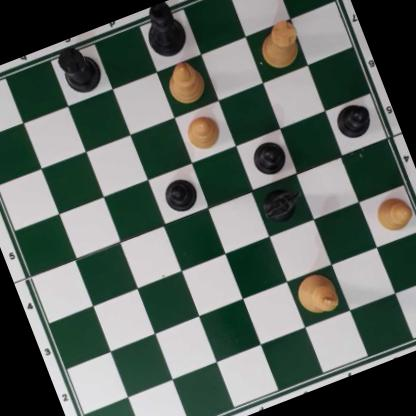black-king: (136, 0, 193, 65)
black-knight: (257, 179, 308, 227)
black-pawn: (330, 99, 375, 143), (158, 173, 202, 216), (248, 135, 289, 179)
black-rook: (52, 38, 107, 98)
white-bishop: (161, 57, 210, 109)
white-king: (290, 267, 342, 321)
white-pawn: (370, 191, 416, 238), (180, 109, 225, 155)
white-rook: (253, 15, 308, 74)
